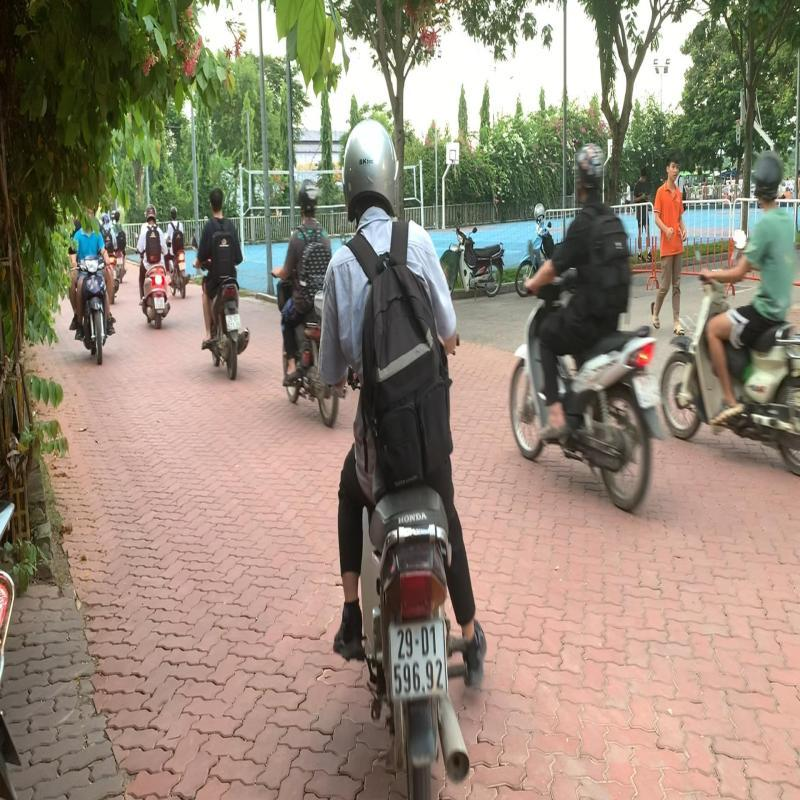nohelmet: (208, 184, 224, 216)
